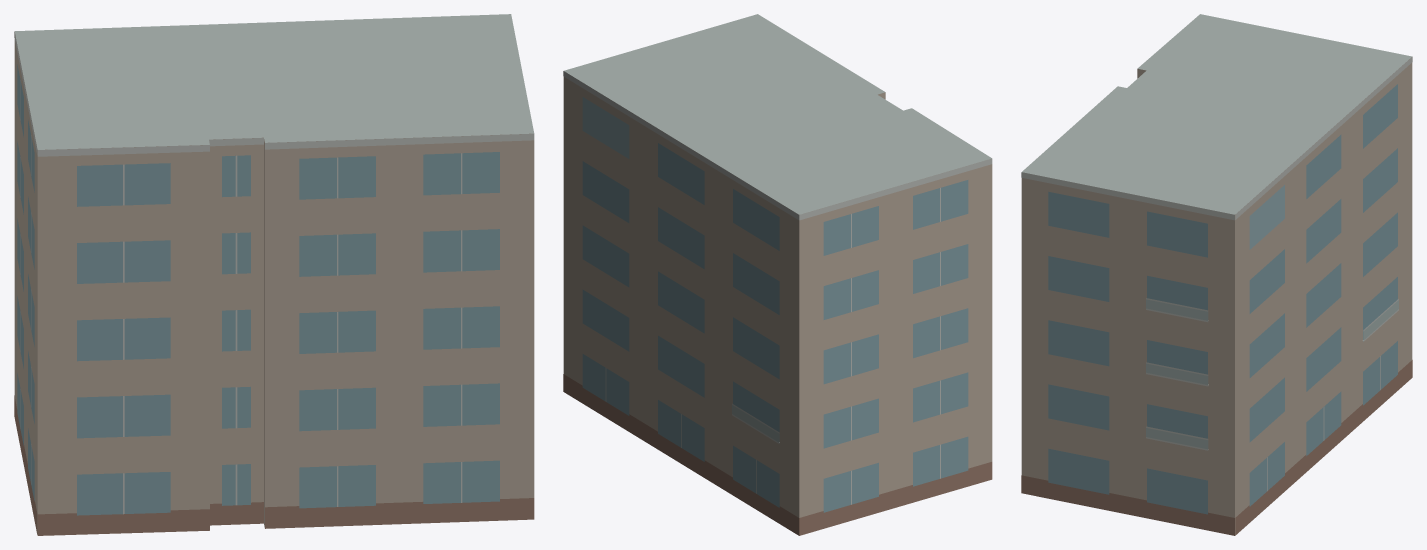
Rendered from survey-upis-32941086.glb.
3 renders of one model, left to right at view 1: azimuth 30°, elevation 25°; view 2: azimuth 150°, elevation 25°; view 3: azimuth 270°, elevation 25°, orthographic. The views are drawn at different scales.
Parts seen in each view (by area): view 1: survey-upis-32941086.tmp; view 2: survey-upis-32941086.tmp; view 3: survey-upis-32941086.tmp.
Part boxes in pixels (bbox=[...]): survey-upis-32941086.tmp: bbox=[14, 14, 534, 535]; survey-upis-32941086.tmp: bbox=[563, 14, 992, 535]; survey-upis-32941086.tmp: bbox=[1021, 14, 1412, 535].
Size of the model in its own units: 18.65 by 13.9 by 15.35.
